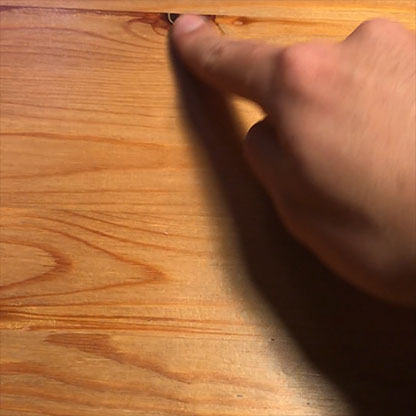fingertip: (166, 8, 211, 49)
